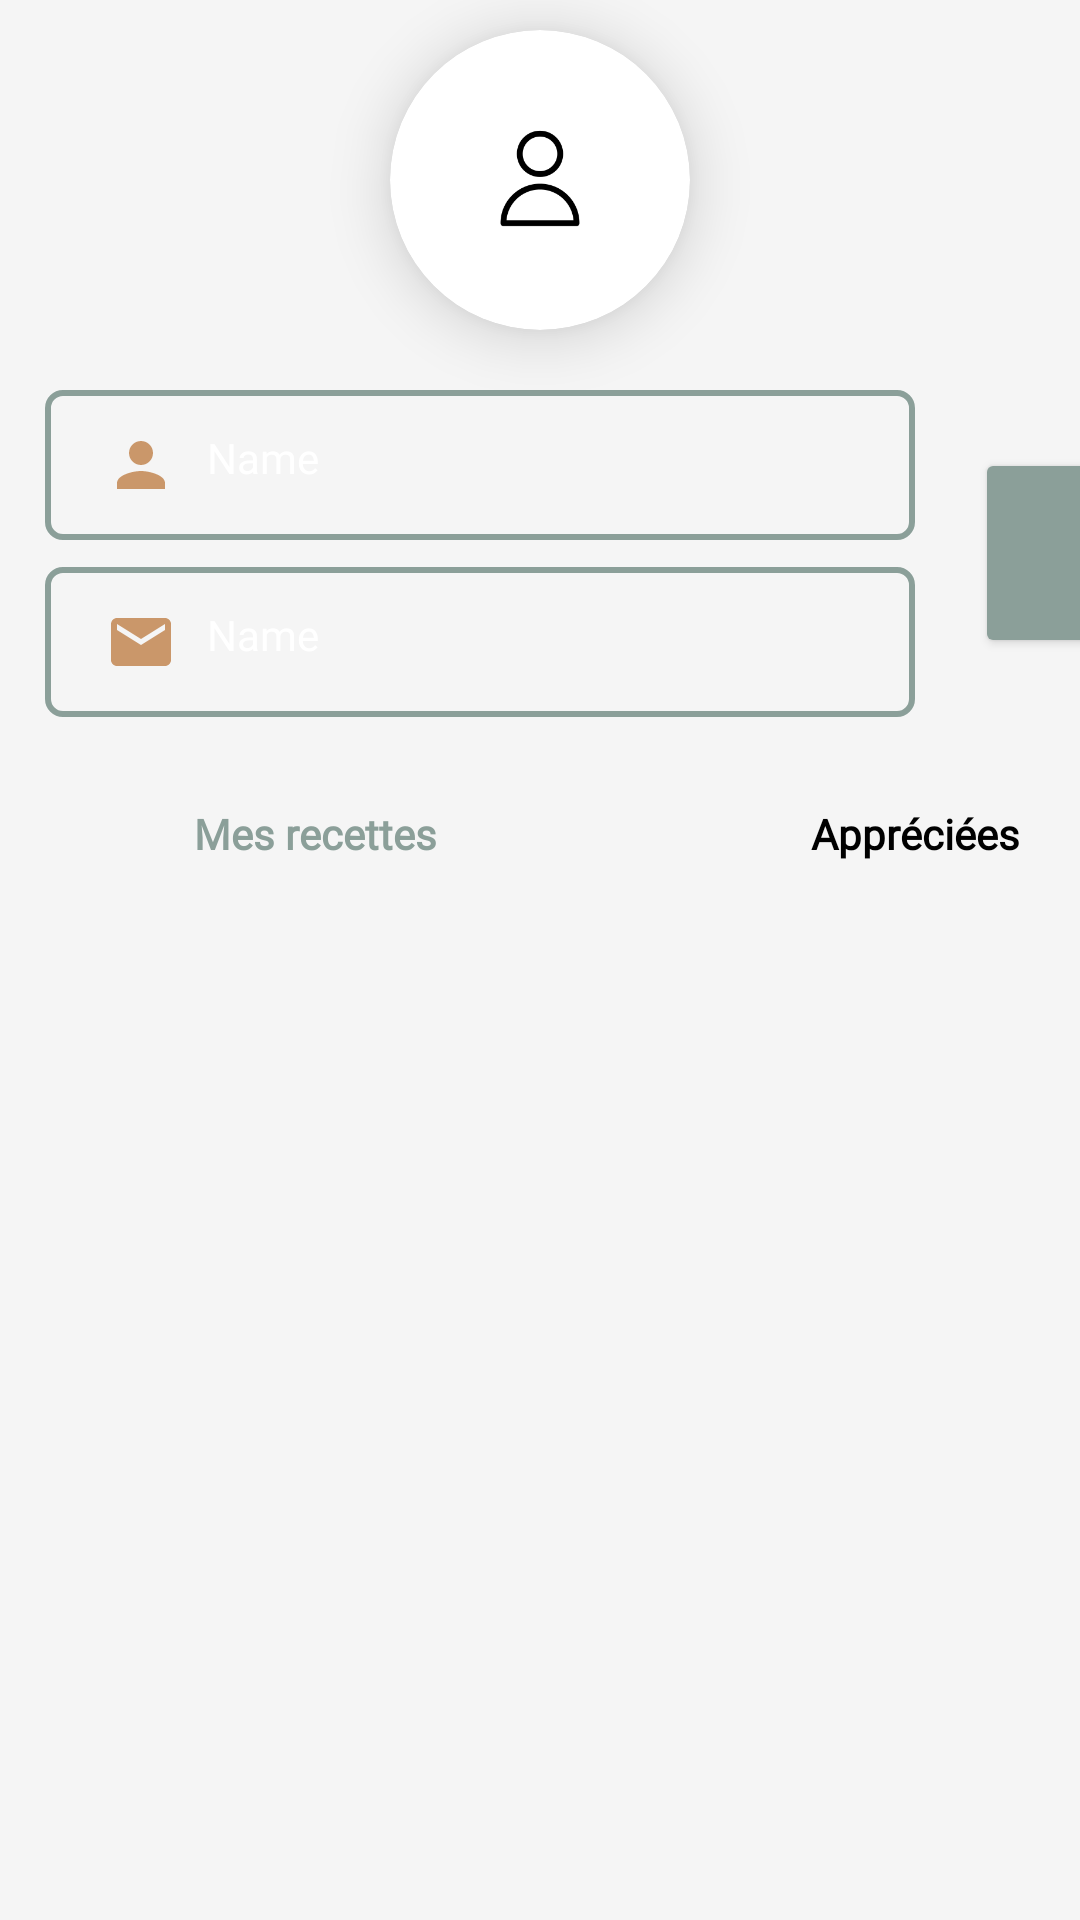

Screen size 1080 x 1920. Icon name, then its center in pixels as [x,y]:
account: [540,180]
